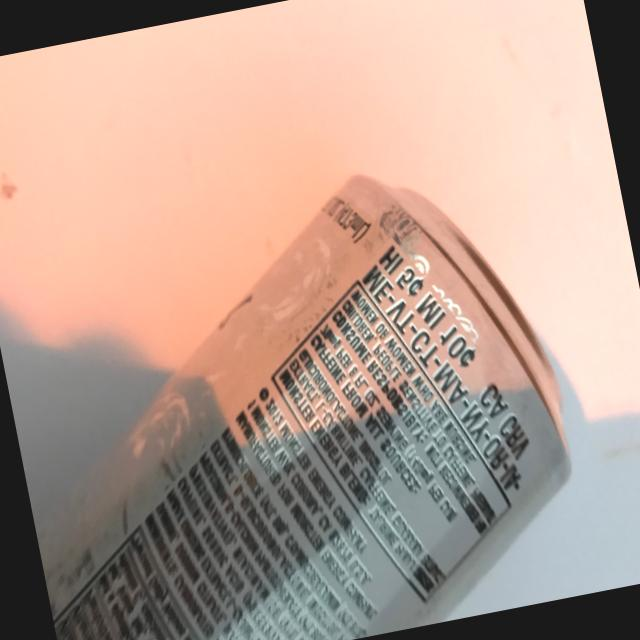Metal: (0, 107, 615, 640)
